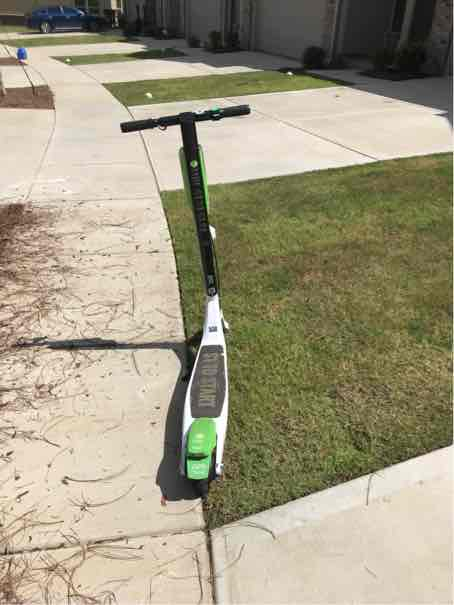scooter: (110, 95, 271, 490)
